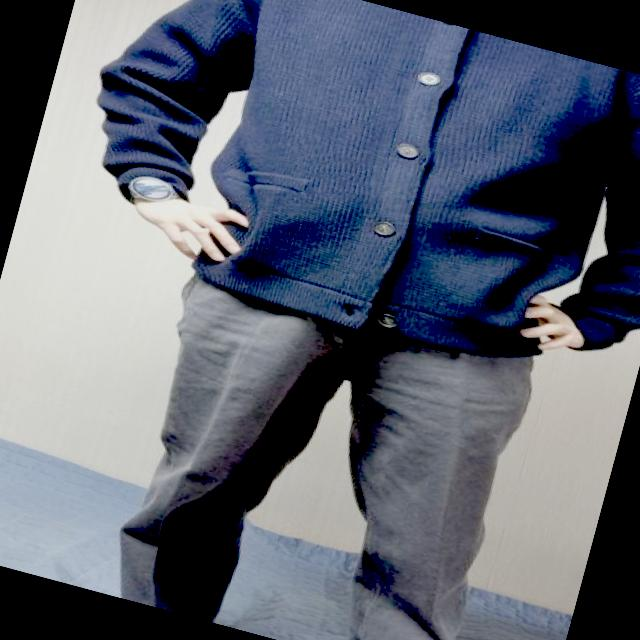cardigan: (48, 0, 640, 404)
denimpants: (95, 244, 552, 640)
